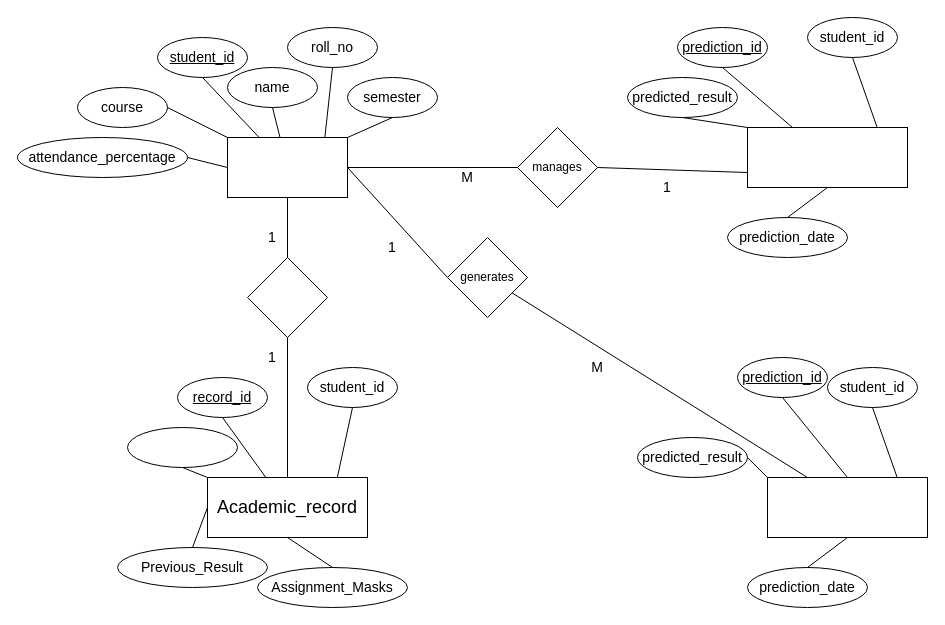
Some shapes in this 945 by 625 pixel diagram are drawn without their labels. Each missing label, with the centre of its shape:
Admin / Teacher: (x=827, y=157)
has: (x=287, y=297)
internal_marks: (x=182, y=447)
Prediction: (x=847, y=507)
Student: (x=287, y=167)
